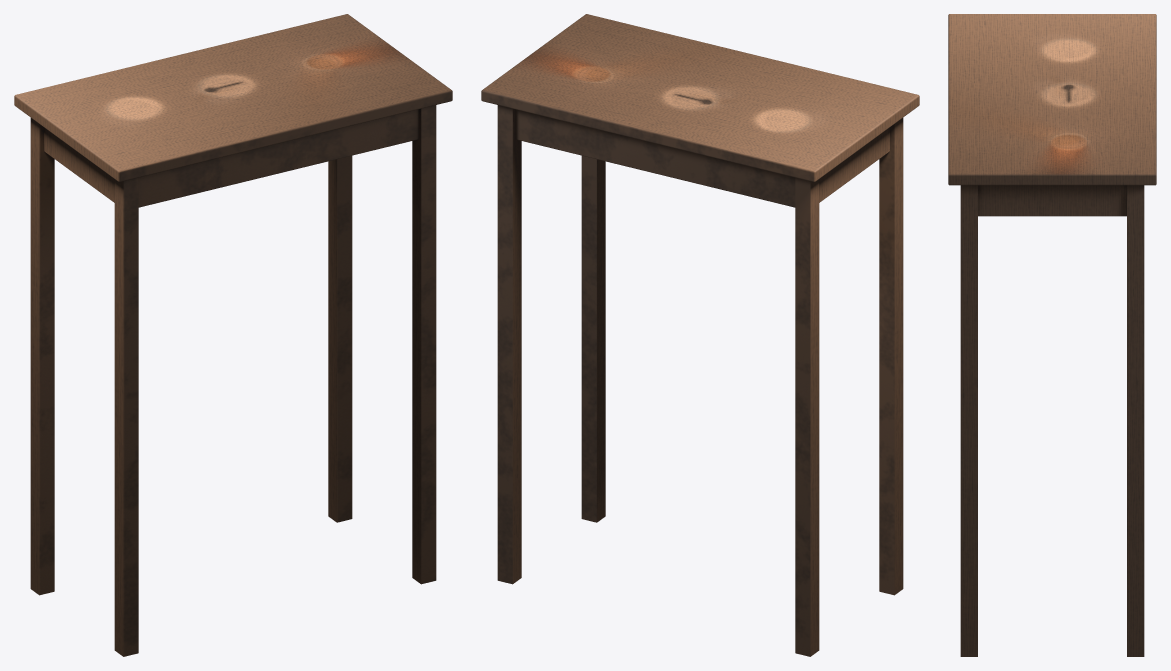
File: 813_air.glb
3 views of the same model, side by side, from view 1: azimuth 30°, elevation 25°; view 2: azimuth 150°, elevation 25°; view 3: azimuth 270°, elevation 25° (orthographic).
Visible parts, largest first — view 1: Table; view 2: Table; view 3: Table.
Part boxes in pixels (bbox=[...]): Table: bbox=[14, 14, 452, 656]; Table: bbox=[481, 14, 919, 656]; Table: bbox=[948, 14, 1156, 656].
Size of what is drawn, in the model's own units: 2.2 by 3.1 by 1.2.
1 material, 1 textured.
